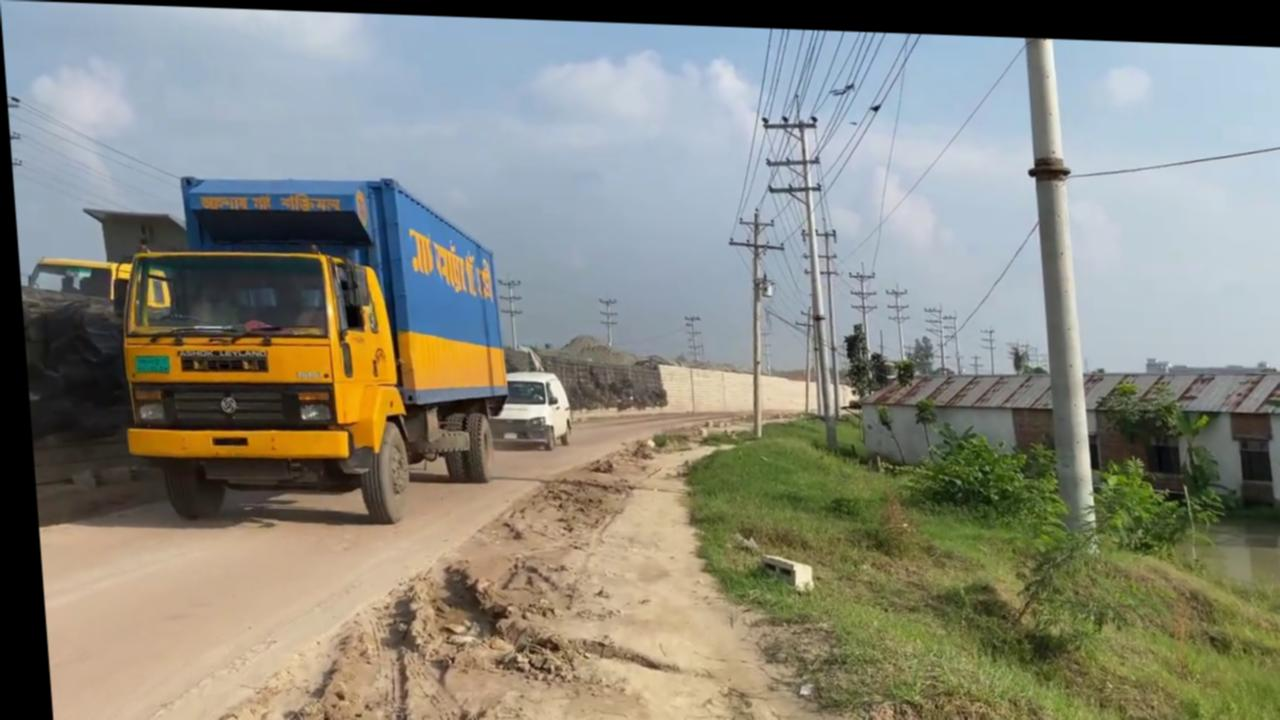Car: (477, 364, 567, 448)
Muddy road: (23, 379, 827, 720)
Pole: (1021, 30, 1092, 547)
Sidewalk: (1159, 499, 1280, 593)
Tree: (101, 165, 512, 528), (17, 205, 187, 320), (20, 253, 165, 318)
